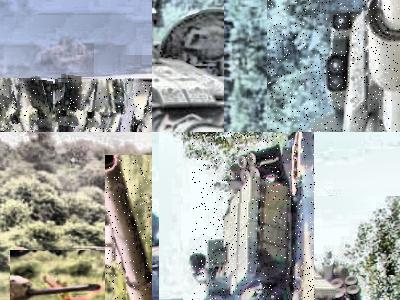tanks: (193, 133, 315, 300), (312, 1, 400, 133), (107, 159, 153, 300), (59, 80, 135, 133), (1, 79, 53, 133)
